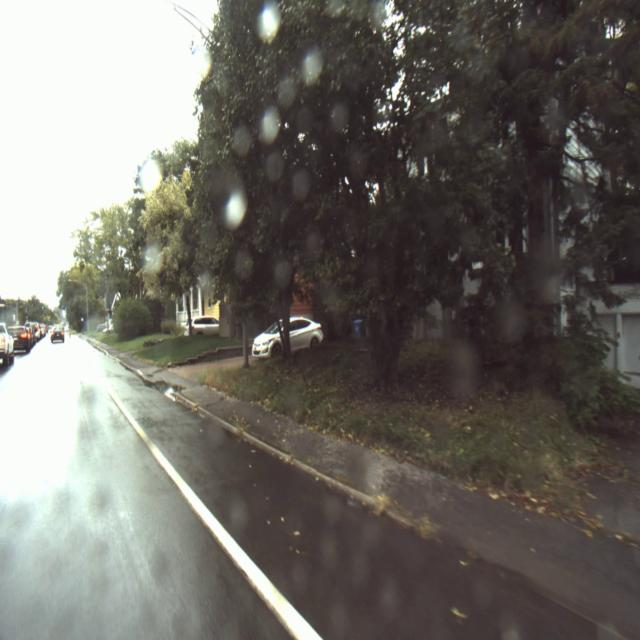car: (251, 317, 322, 361), (184, 318, 219, 340), (8, 327, 30, 358), (1, 322, 14, 370), (26, 322, 42, 344), (50, 326, 64, 344)
